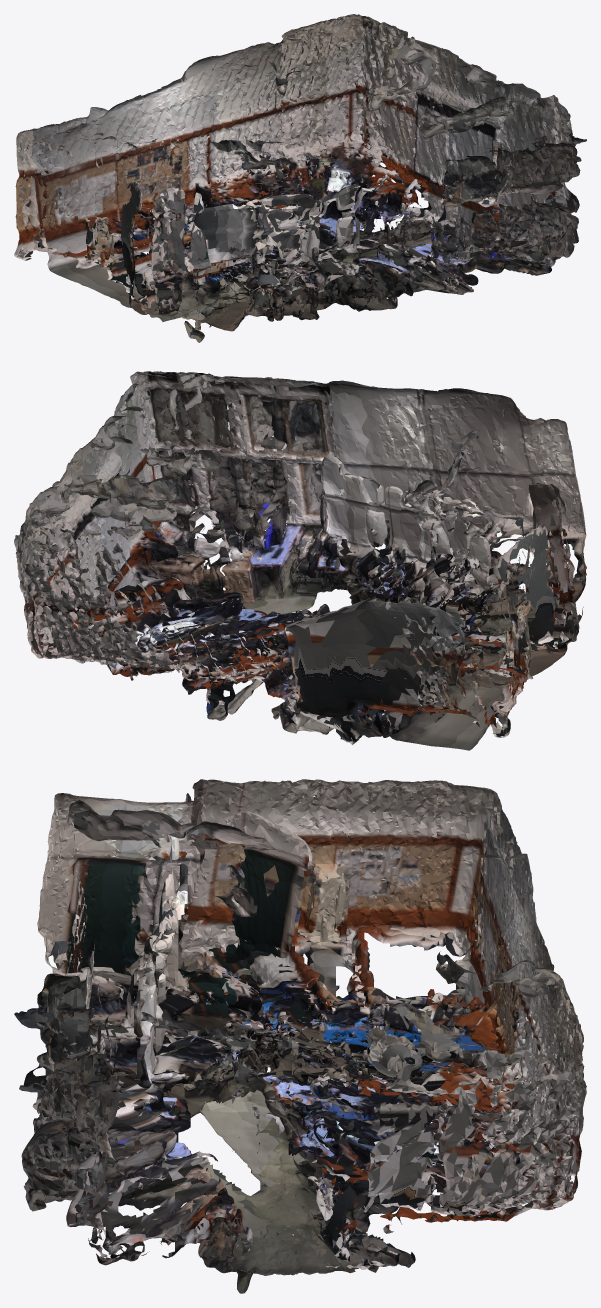
Rendered from room_photographic_model_lod1.glb.
3 views of the same model, one above another, from view 1: azimuth 30°, elevation 25°; view 2: azimuth 150°, elevation 25°; view 3: azimuth 270°, elevation 25° (orthographic). The views are drawn at different scales.
Parts seen in each view (by area): view 1: room_photographic_model_lod1.obj; view 2: room_photographic_model_lod1.obj; view 3: room_photographic_model_lod1.obj.
Part boxes in pixels (bbox=[...]): room_photographic_model_lod1.obj: bbox=[14, 14, 586, 342]; room_photographic_model_lod1.obj: bbox=[14, 371, 586, 750]; room_photographic_model_lod1.obj: bbox=[14, 779, 586, 1293].
Bounding box in the file's own units: 1.87 × 0.8853 × 1.48.
1 material, 1 textured.
